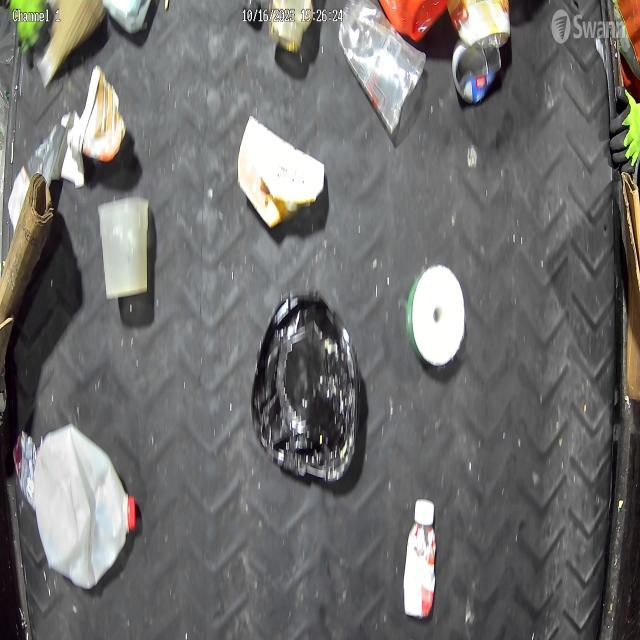can: (452, 43, 504, 106)
milk_jug: (33, 423, 139, 592)
